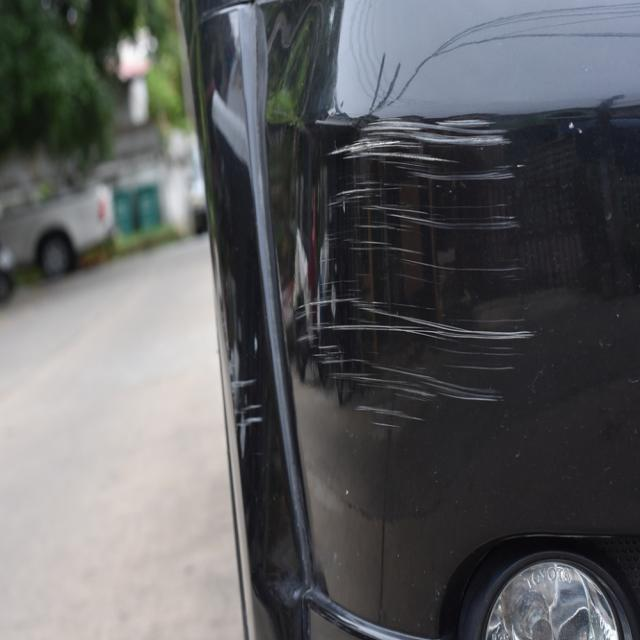scratch: (294, 108, 539, 432), (228, 364, 262, 466)
